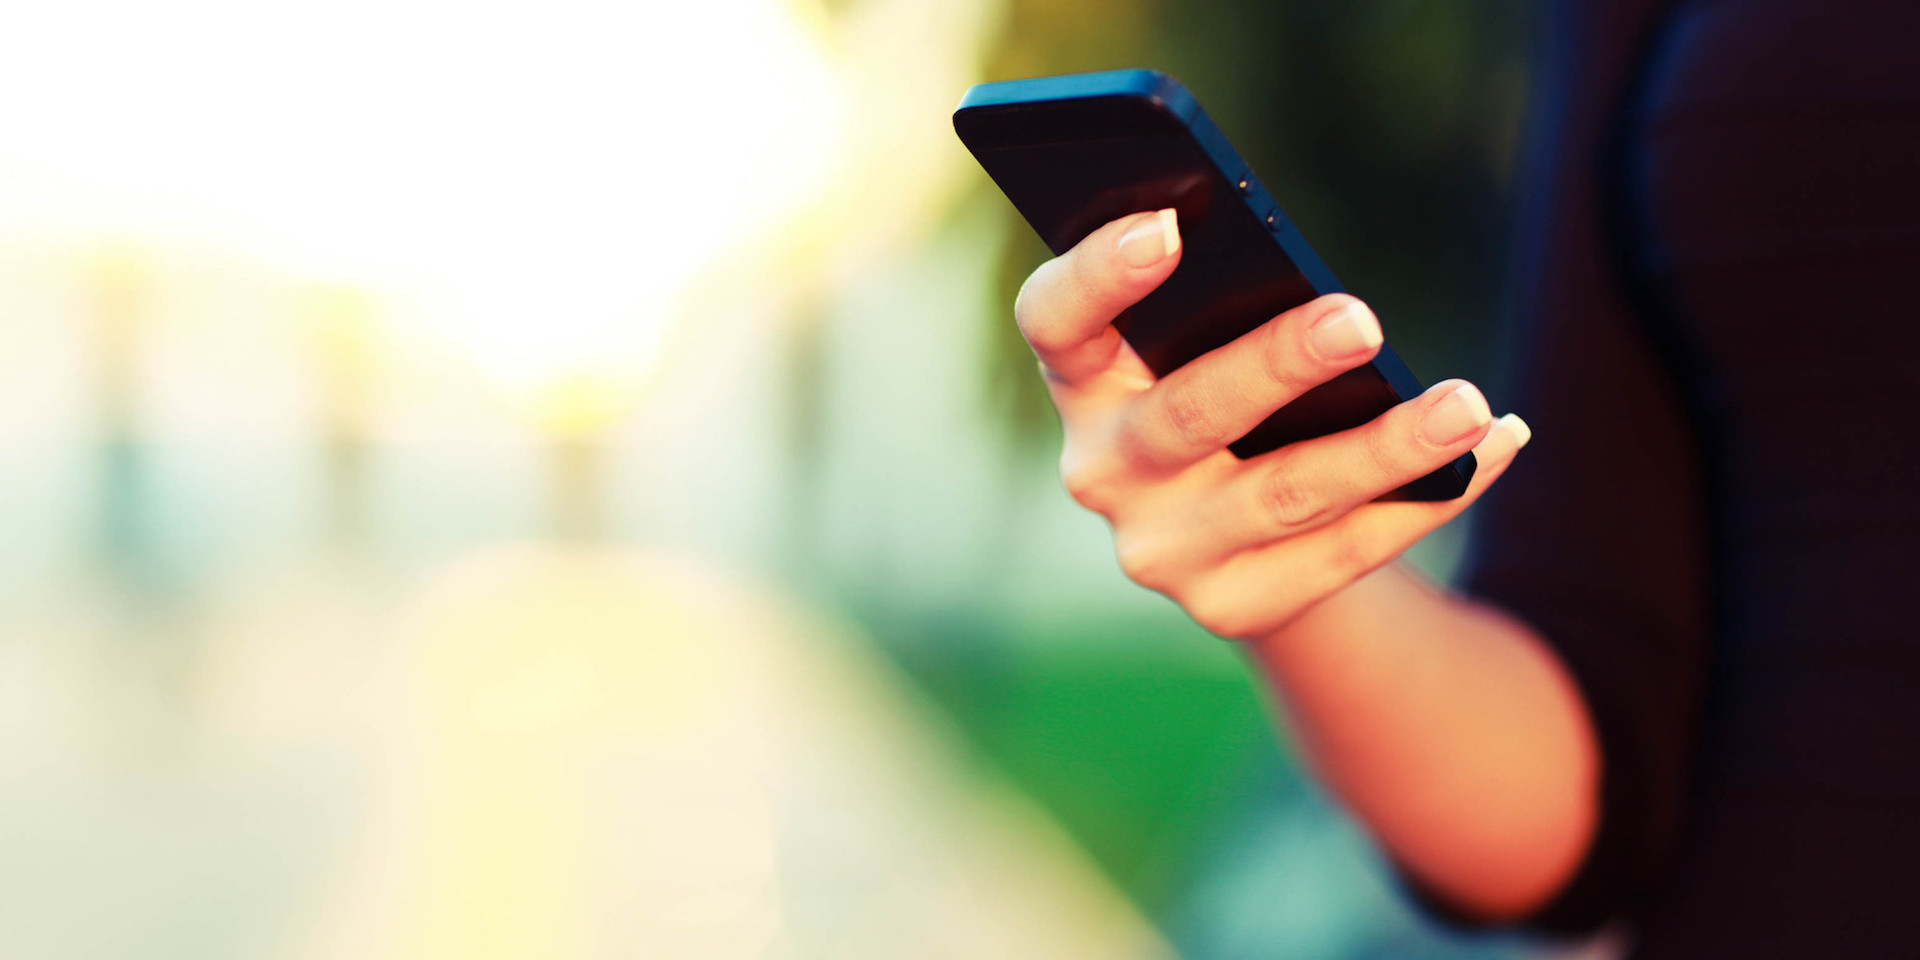smartphone: (951, 67, 1478, 504)
